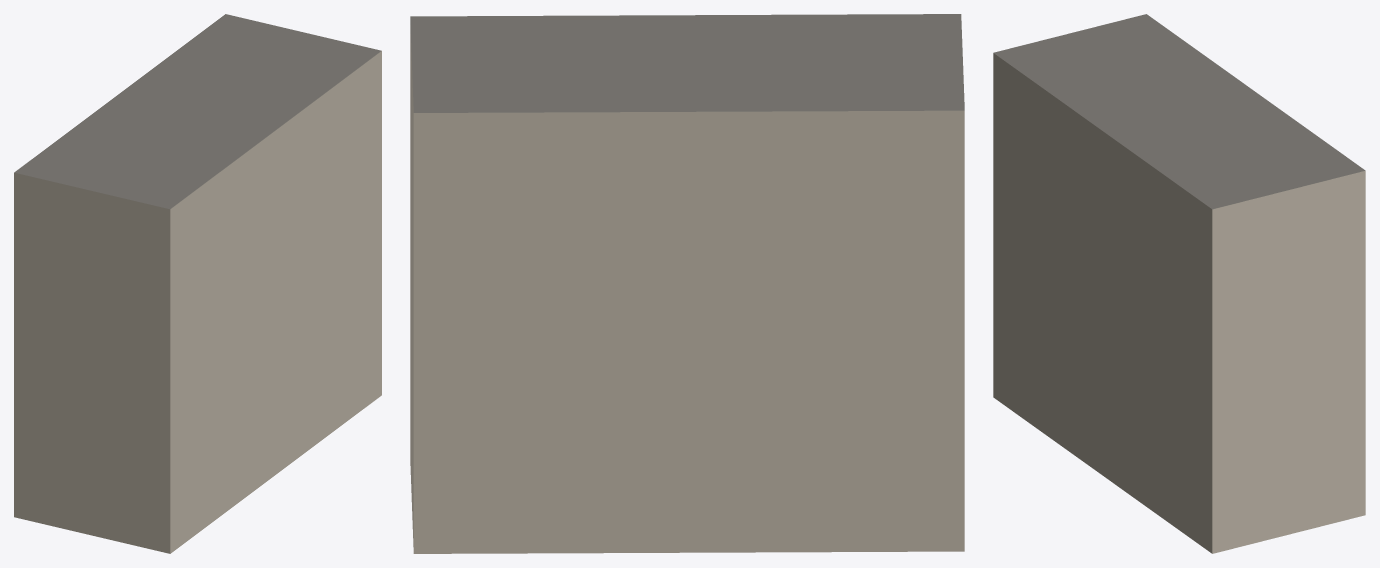
3 renders of one model, left to right at view 1: azimuth 30°, elevation 25°; view 2: azimuth 150°, elevation 25°; view 3: azimuth 270°, elevation 25°, orthographic. The views are drawn at different scales.
Parts seen in each view (by area): view 1: HP-w389701928; view 2: HP-w389701928; view 3: HP-w389701928.
Boxes of the visible parts, x1=… form: HP-w389701928: x1=14, y1=14, x2=381, y2=553; HP-w389701928: x1=410, y1=14, x2=964, y2=553; HP-w389701928: x1=993, y1=14, x2=1365, y2=553.
Size of the model in its own units: 21.9 by 18 by 17.64.
